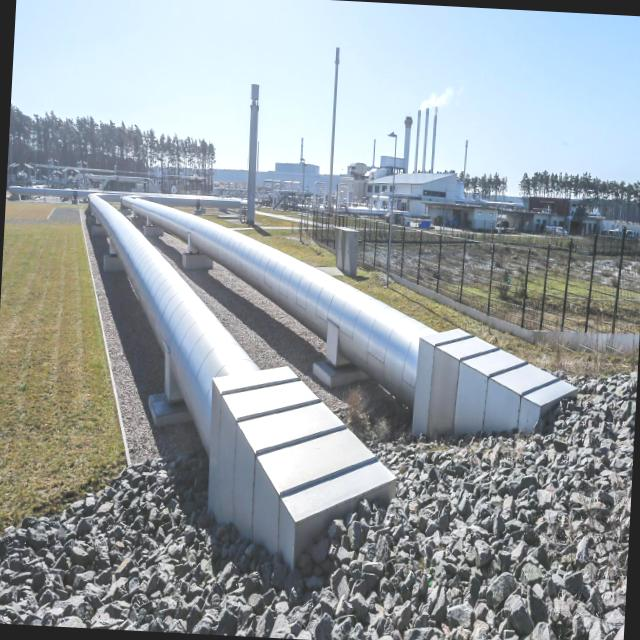gas: (121, 198, 435, 402), (87, 194, 268, 460)
